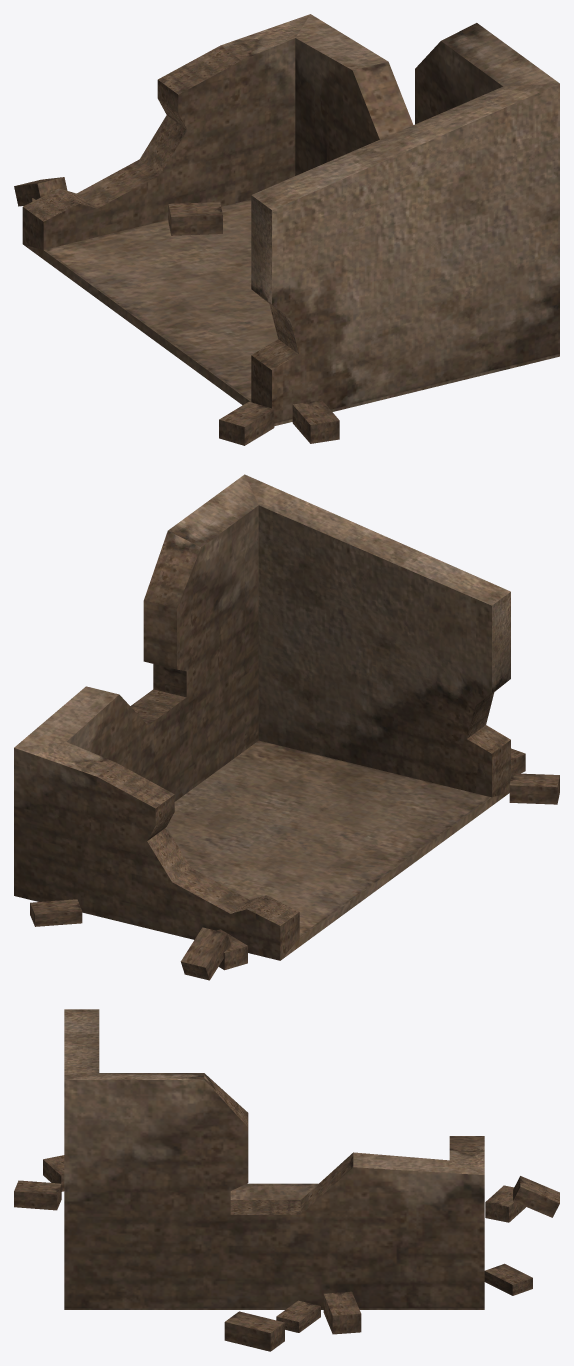
Rendered from Mis4_Ruin.glb.
The picture shows the model from 3 angles, top to bottom: view 1: azimuth 30°, elevation 25°; view 2: azimuth 150°, elevation 25°; view 3: azimuth 270°, elevation 25°; orthographic projection. The views are drawn at different scales.
Visible parts, largest first — view 1: MIS4_RUIN; view 2: MIS4_RUIN; view 3: MIS4_RUIN.
Part boxes in pixels (x1=…): MIS4_RUIN: x1=14, y1=14, x2=559, y2=445; MIS4_RUIN: x1=14, y1=474, x2=559, y2=980; MIS4_RUIN: x1=14, y1=1009, x2=559, y2=1351.
Bounding box in the file's own units: 6.13 × 3.63 × 7.8.
Materials: 3 (3 with a texture image).
